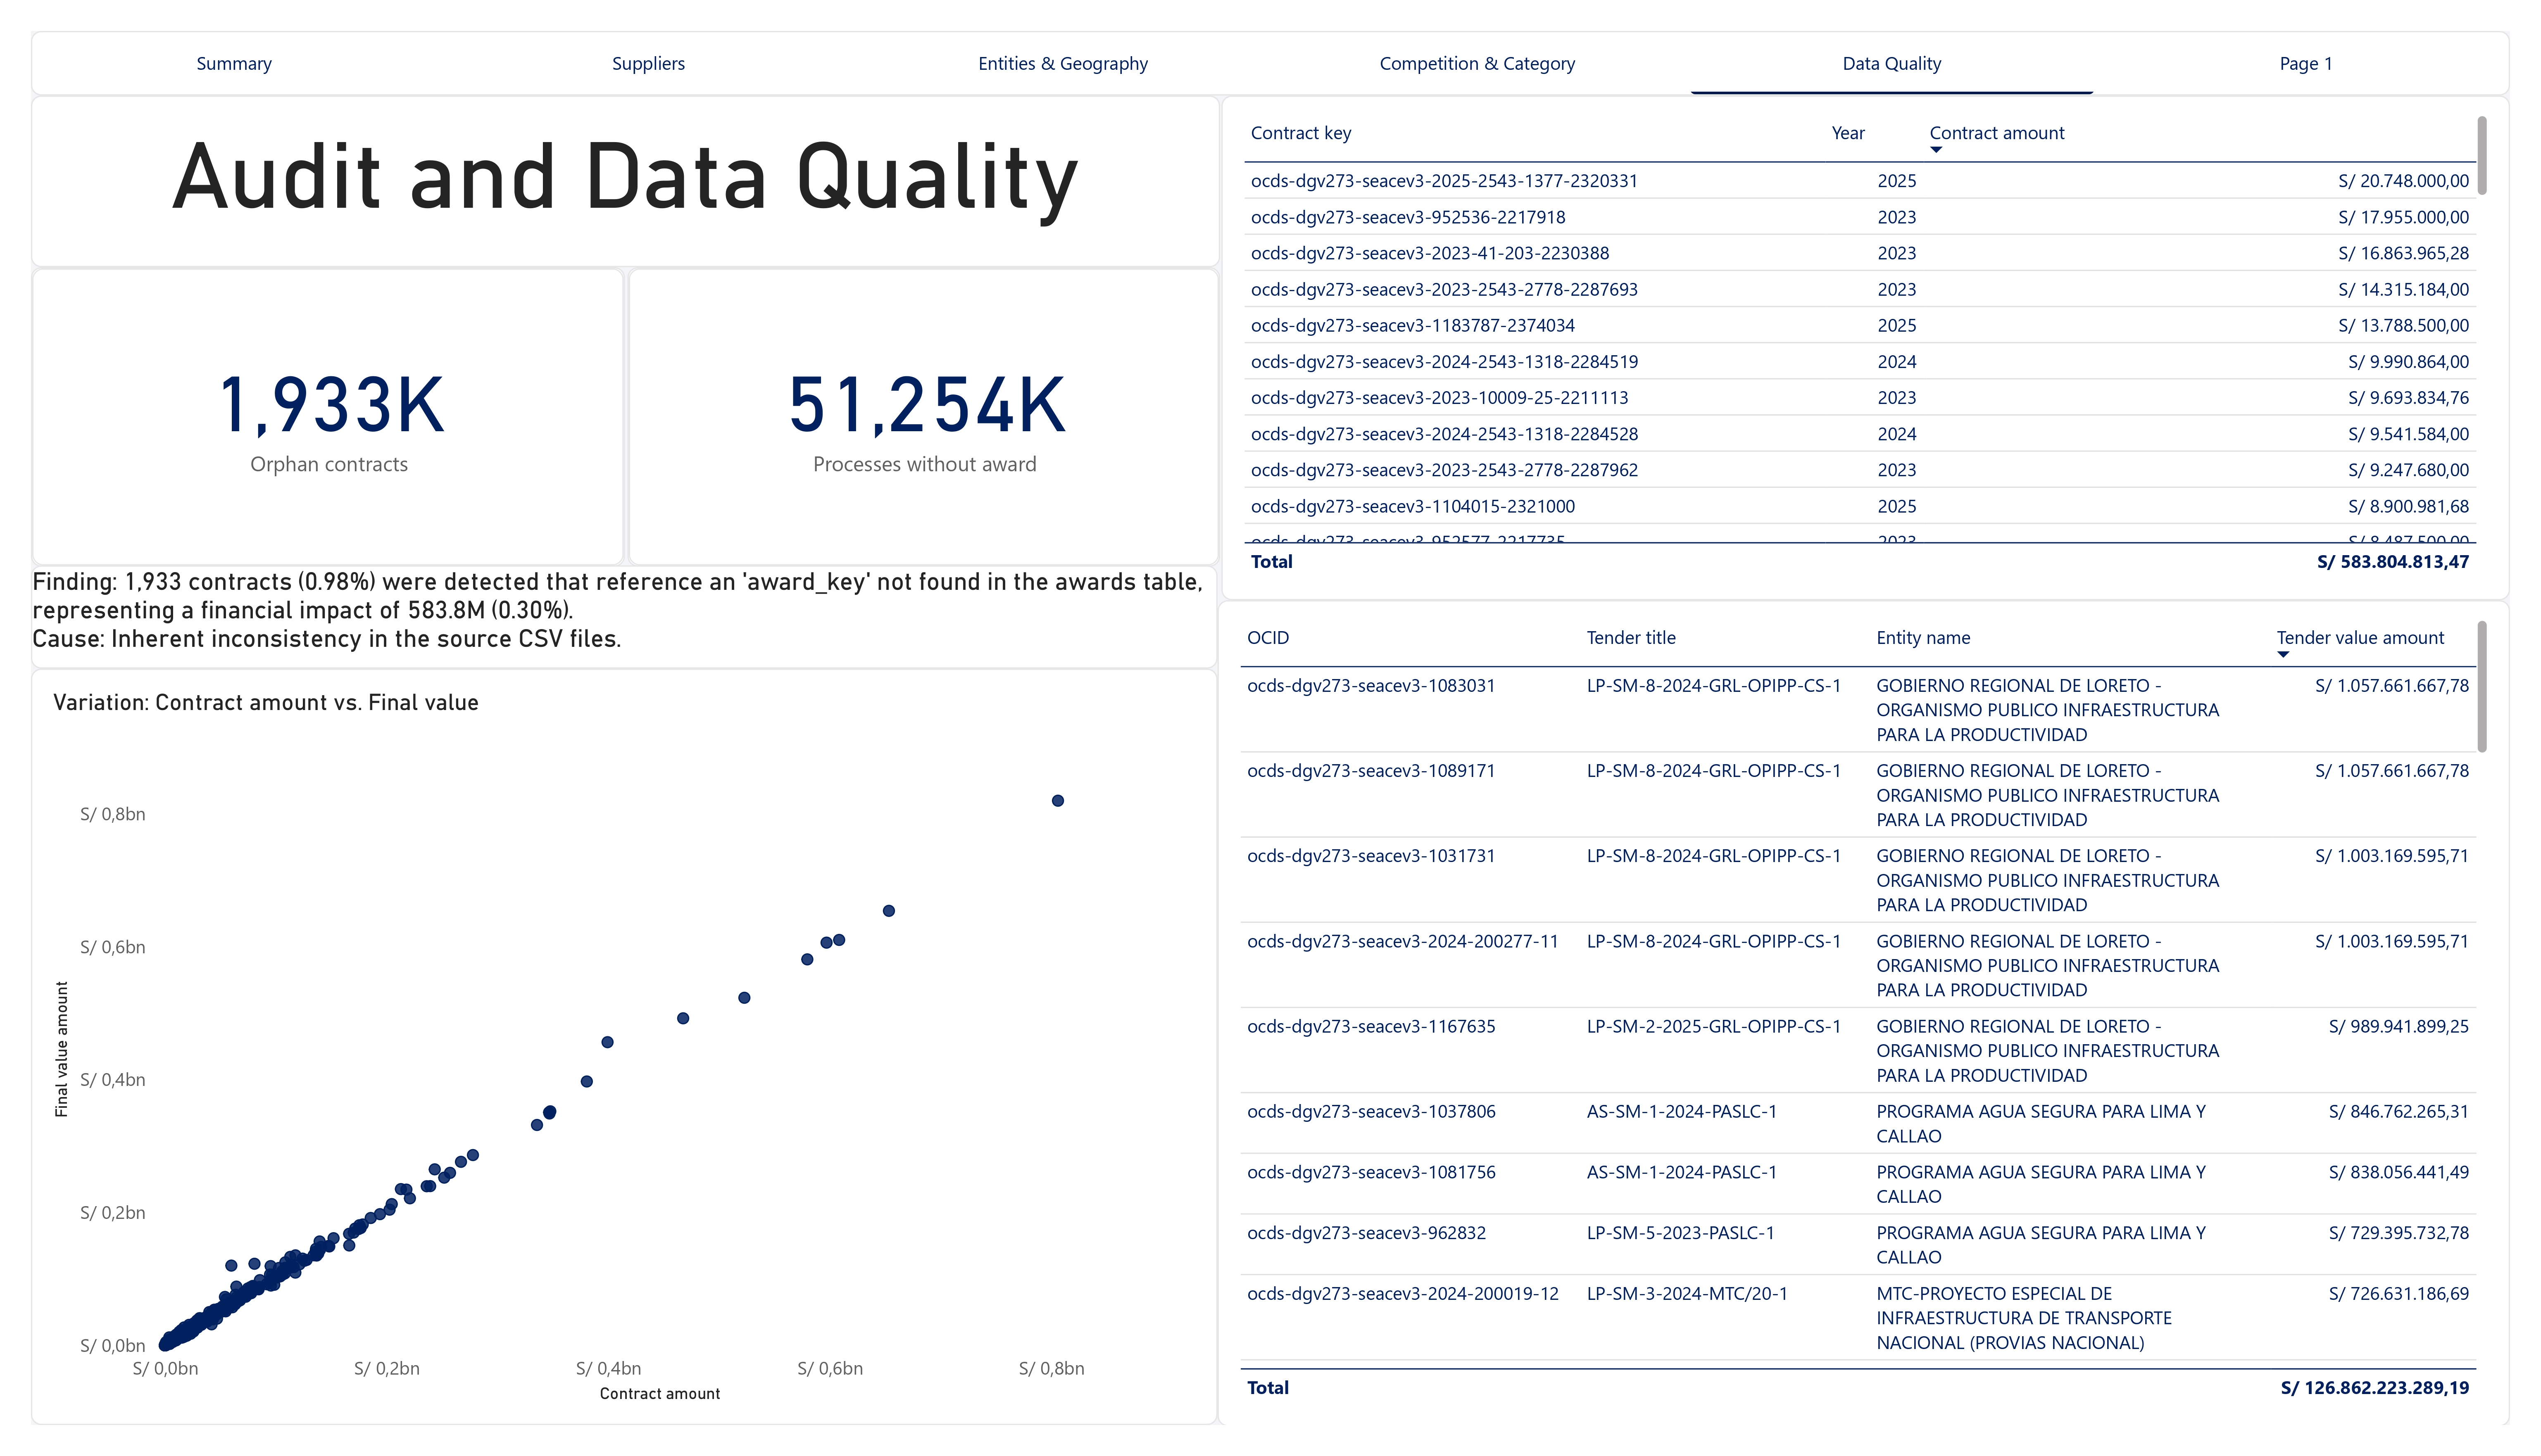

The page's visual inventory and layout, read from the dashboard file:
{"tool":"powerbi","page":{"name":"Data Quality","canvas":[1920,1080],"ordinal":4},"visuals":[{"type":"textbox","box":[0,50,920.6,133],"z":0},{"type":"cardVisual","title":"Avg Tenderers per Process","fields":{"Data":["CountNonNull(v_orphan_contracts.contract_amount)"]},"box":[0,183.1,460.4,231.5],"z":2000},{"type":"cardVisual","title":"Avg Tenderers per Process","fields":{"Data":["CountNonNull(v_processes_without_award.tender_value_amount)"]},"box":[462.3,183.1,459,231.5],"z":3000},{"type":"tableEx","fields":{"Values":["v_orphan_contracts.contract_key","v_orphan_contracts.year","Sum(v_orphan_contracts.contract_amount)"]},"box":[922,50,998.3,391.2],"z":4000},{"type":"tableEx","fields":{"Values":["v_processes_without_award.ocid","v_processes_without_award.tender_title","v_processes_without_award.procuring_entity_name","Sum(v_processes_without_award.tender_value_amount)"]},"box":[919.4,441.4,1000.6,639.1],"z":4001},{"type":"scatterChart","title":"Variation: Contract amount vs. Final value","fields":{"Category":["v_contracts_with_variance.contract_key"],"X":["Sum(v_contracts_with_variance.contract_amount)"],"Y":["Sum(v_contracts_with_variance.final_value_amount)"]},"box":[0,493.9,919.3,586.1],"z":4002},{"type":"textbox","box":[0,413.6,919.3,80.3],"z":4003},{"type":"pageNavigator","box":[0,0,1920.3,50],"z":4004}]}

Visuals, with their boxes on the page's 1920x1080 design canvas (x1, y1, x2, y2). These are canvas units, not pixel positions in the 2541x1456 screenshot, which may show the page scaled, cropped or inside an application window:
textbox: <region>0, 50, 921, 183</region>
"Avg Tenderers per Process" cardVisual: <region>0, 183, 460, 415</region>
"Avg Tenderers per Process" cardVisual: <region>462, 183, 921, 415</region>
tableEx - v_orphan_contracts.contract_key x v_orphan_contracts.year: <region>922, 50, 1920, 441</region>
tableEx - v_processes_without_award.ocid x v_processes_without_award.tender_title: <region>919, 441, 1920, 1080</region>
"Variation: Contract amount vs. Final value" scatterChart: <region>0, 494, 919, 1080</region>
textbox: <region>0, 414, 919, 494</region>
pageNavigator: <region>0, 0, 1920, 50</region>
